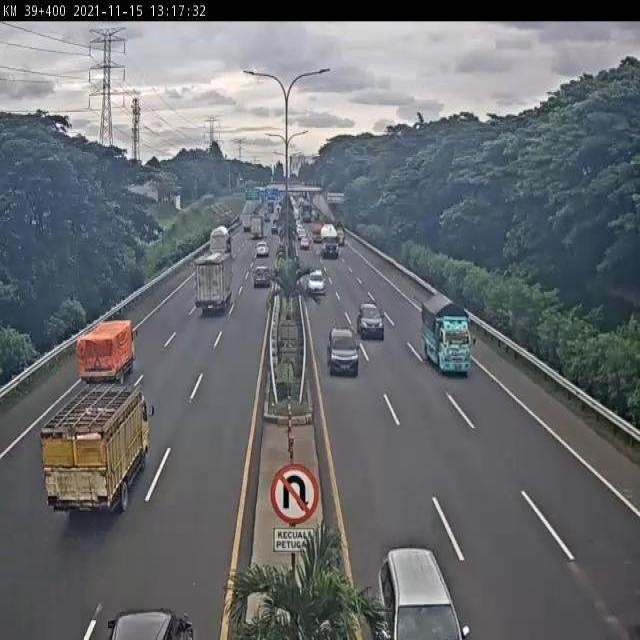Car: (378, 544, 473, 640), (326, 328, 359, 376), (356, 303, 385, 341), (306, 268, 326, 297), (252, 267, 273, 289), (255, 241, 270, 257), (299, 237, 311, 250)
Truck: (39, 384, 156, 516), (421, 293, 477, 374), (76, 320, 138, 384), (194, 254, 233, 316), (210, 226, 232, 257), (321, 224, 339, 259), (250, 215, 264, 240)
